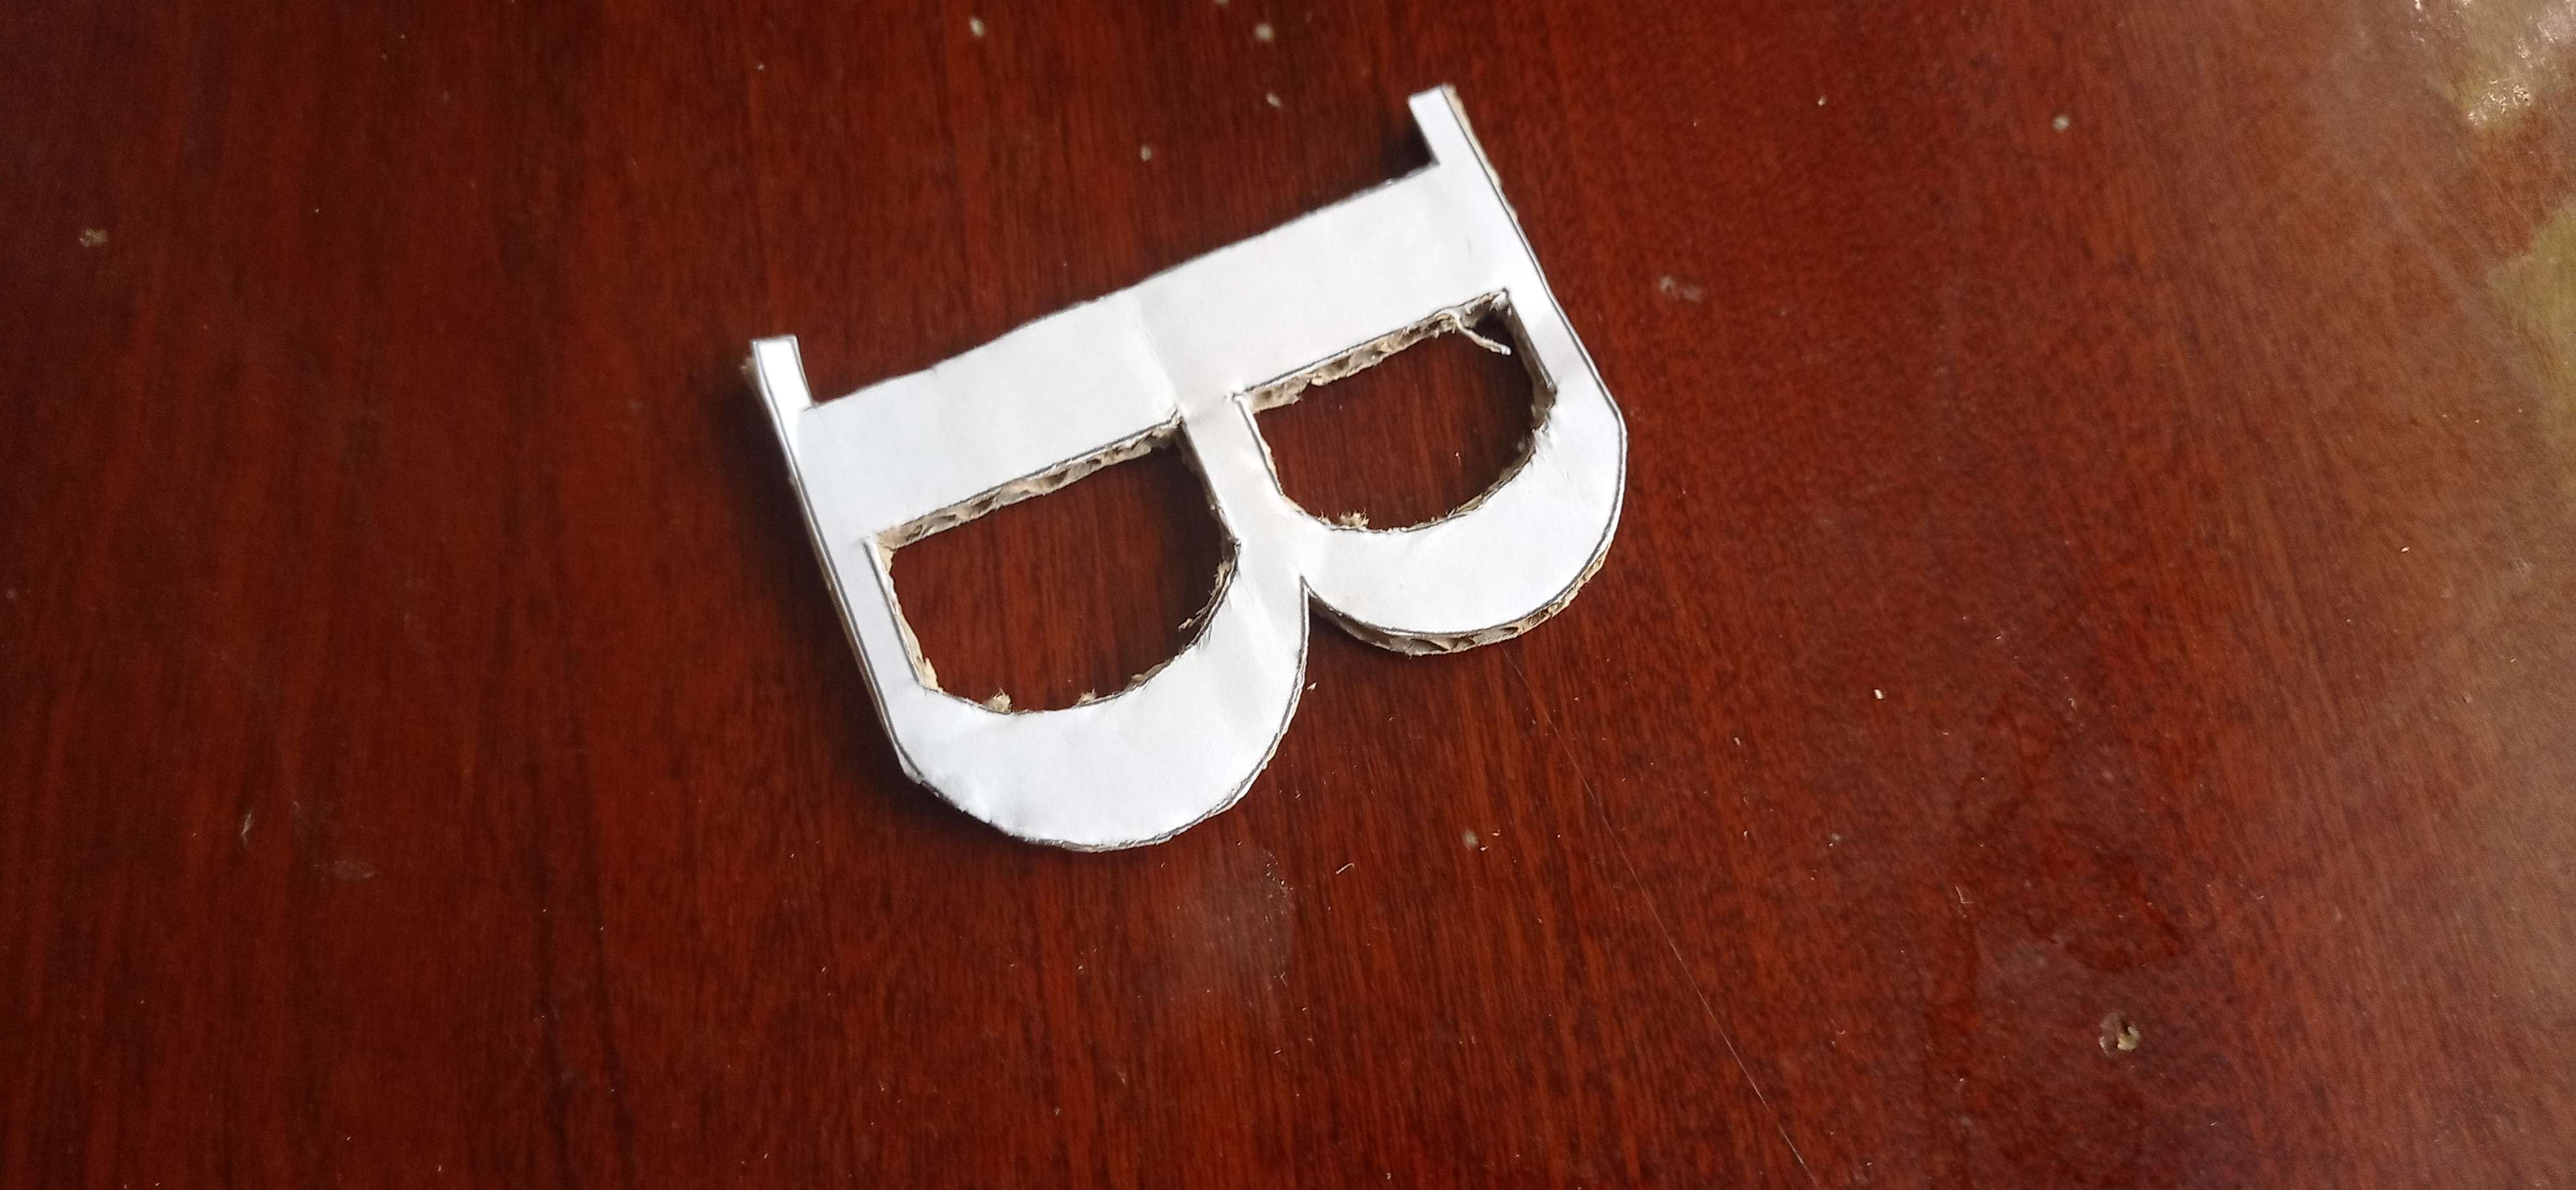v: (738, 87, 1628, 860)
